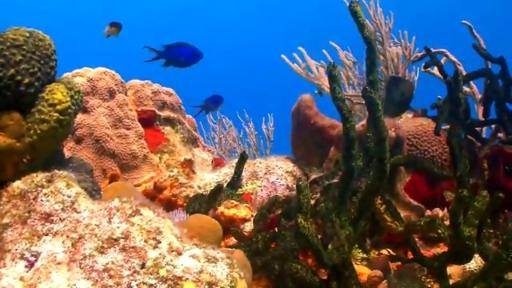Fish: (384, 76, 426, 117), (144, 42, 203, 67), (193, 95, 223, 117), (104, 22, 122, 37), (212, 157, 225, 169), (315, 88, 323, 96)
